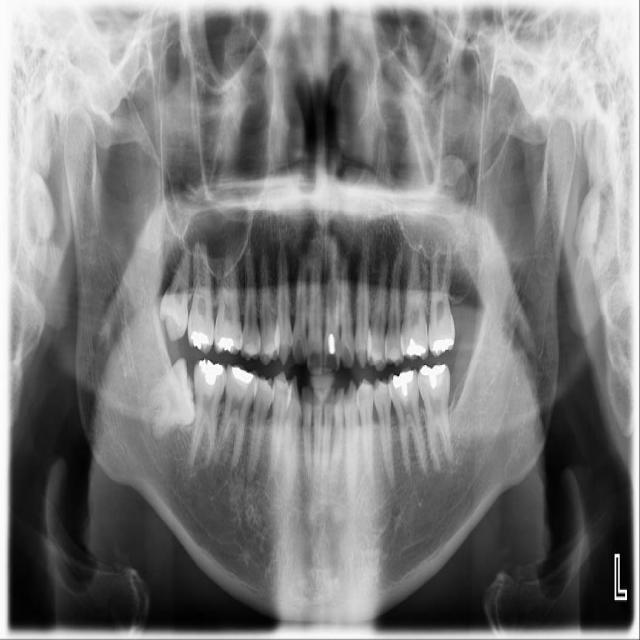3M ESPE Implant: (158, 244, 192, 343)
52: (383, 363, 427, 414), (220, 363, 260, 415), (189, 355, 230, 405), (415, 359, 454, 404), (426, 305, 457, 358), (212, 306, 243, 356), (400, 310, 429, 360), (187, 303, 214, 355), (258, 318, 280, 366), (240, 323, 261, 361), (322, 334, 340, 372)
73: (612, 562, 622, 576)
BioHorizons Implant: (427, 230, 455, 357)
Blue Sky Bio Implant: (416, 361, 456, 473)
Caries: (187, 231, 214, 355)
Implant: (187, 356, 229, 470)
Keystone Dental Implant: (137, 355, 204, 440)
